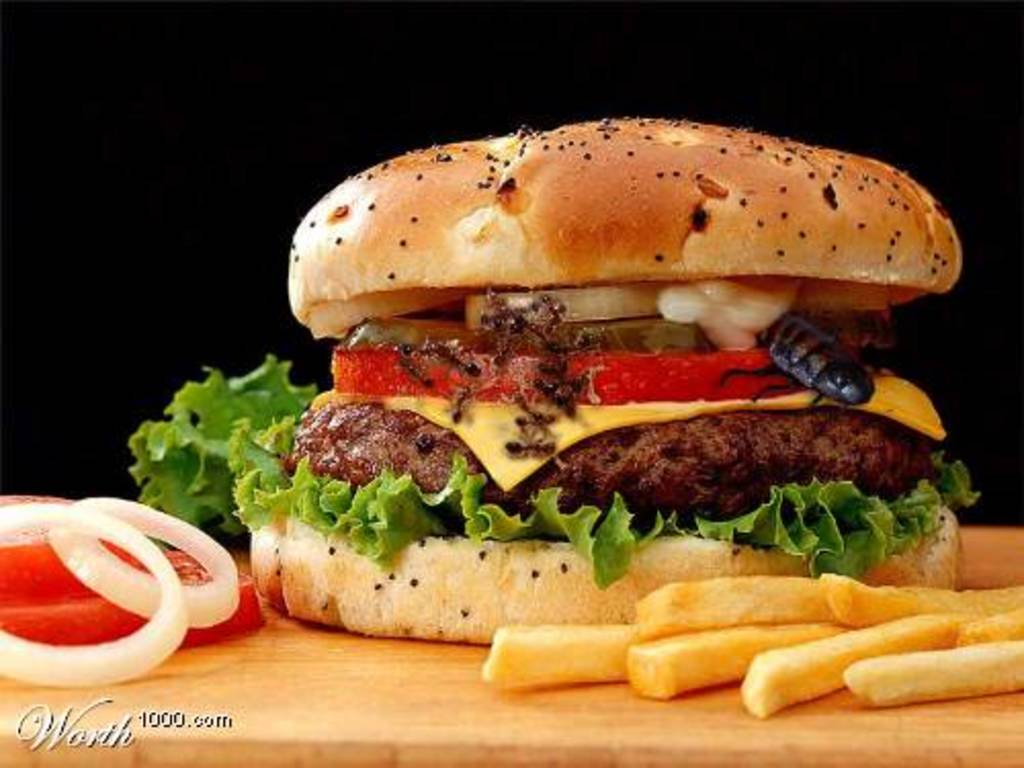French fries: (482, 572, 1023, 719)
